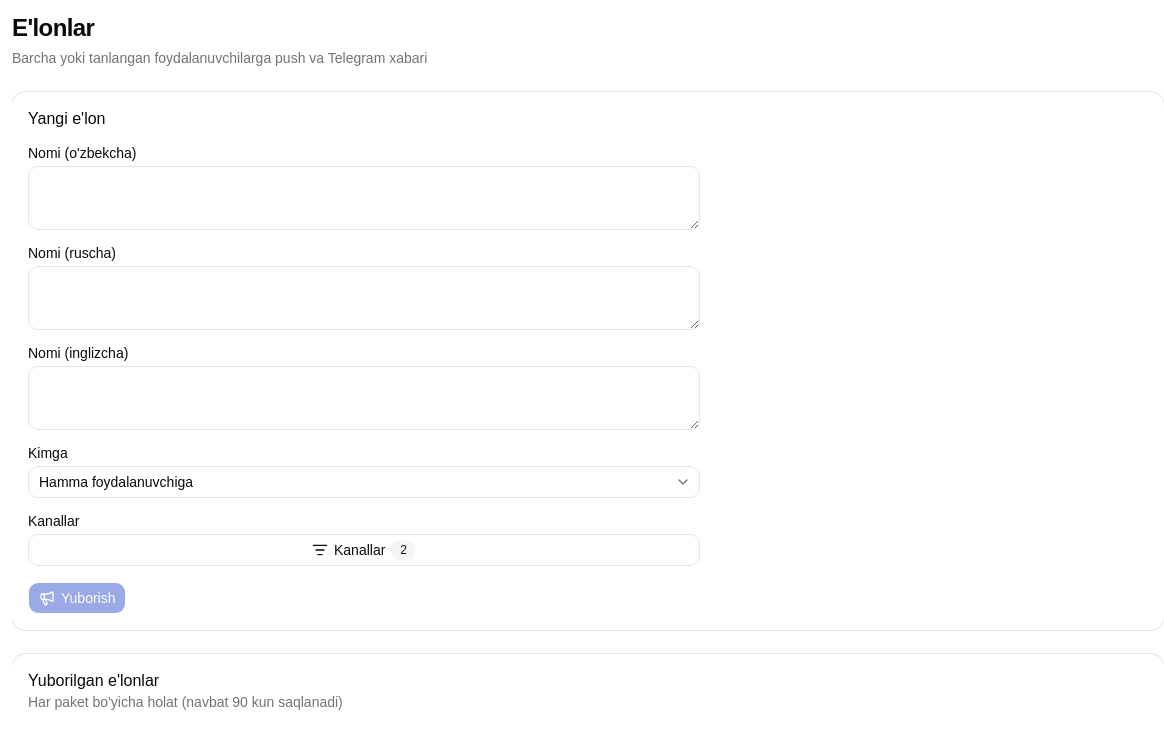
Test: PlatformAnnouncementsPage (E26-T03) › uch til to‘lmaguncha yuborilmaydi
Expected: the button "Yuborish" is disabled, [28,582,126,614]
In the text box labelled "Nomi (o'zbekcha)": {"x": 364, "y": 198} [28,166,700,230], type "Salom"
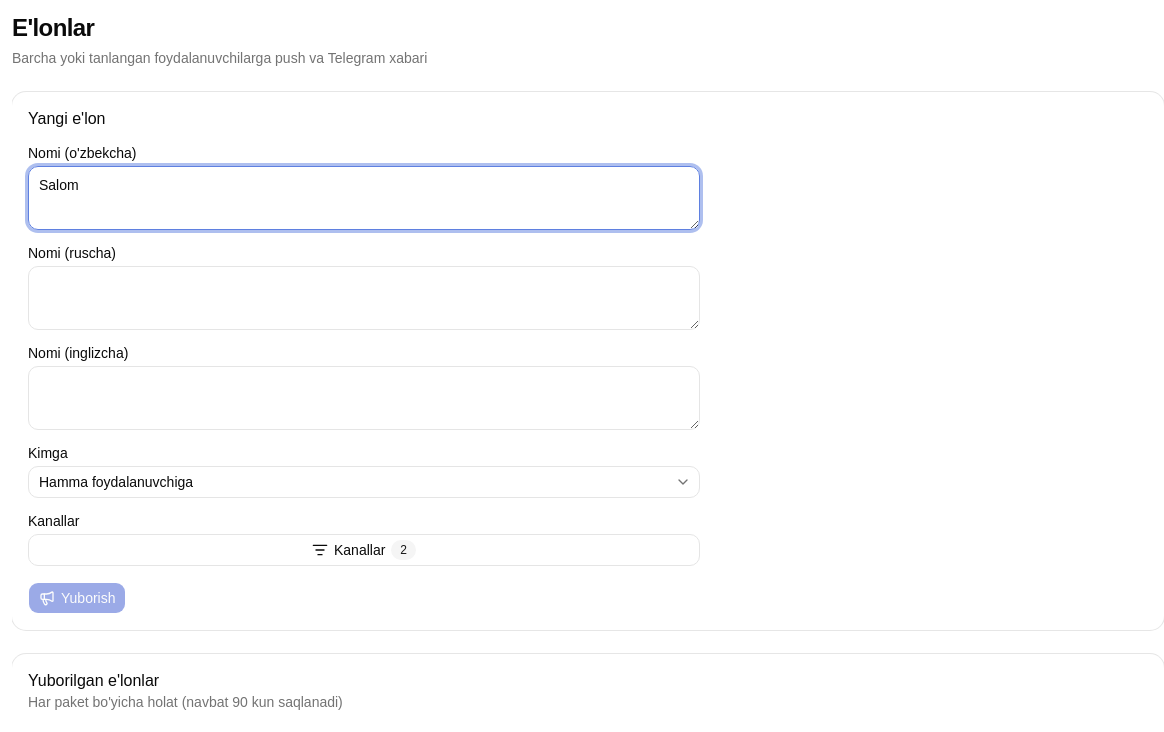
Expected: the button "Yuborish" is disabled, [28,582,126,614]
In the text box labelled "Nomi (ruscha)": {"x": 364, "y": 298} [28,266,700,330], type "Привет"
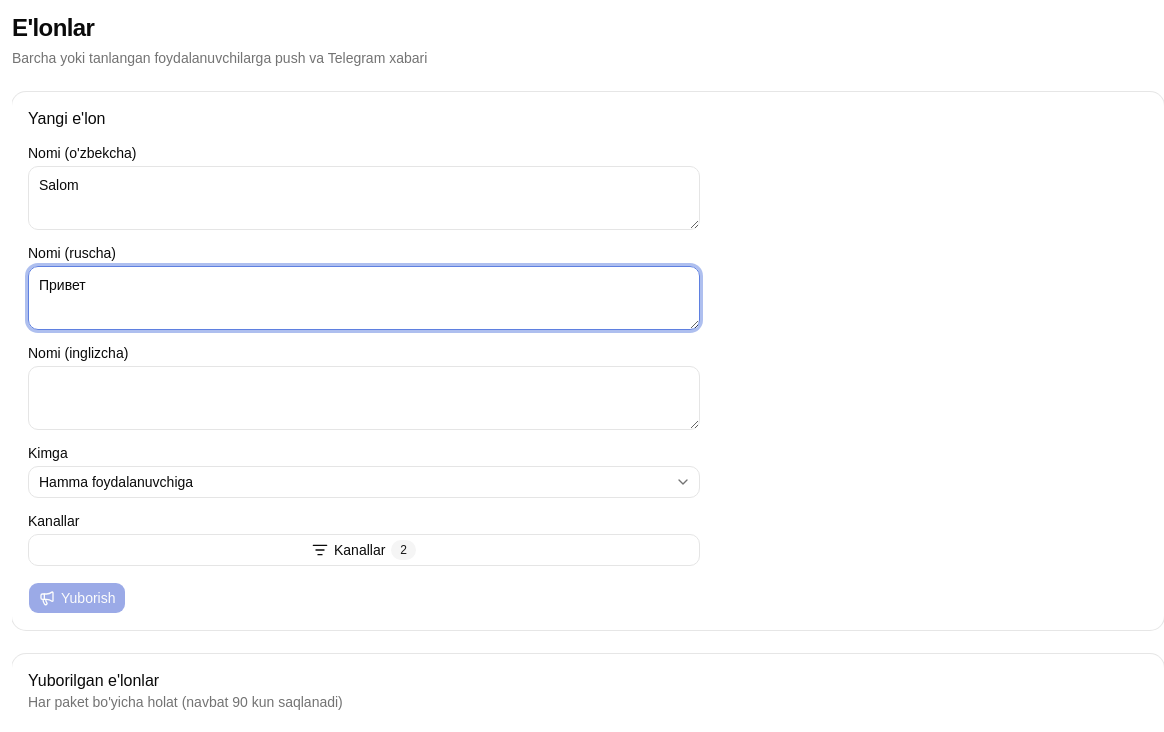
In the text box labelled "Nomi (inglizcha)": {"x": 364, "y": 398} [28,366,700,430], type "Hello"
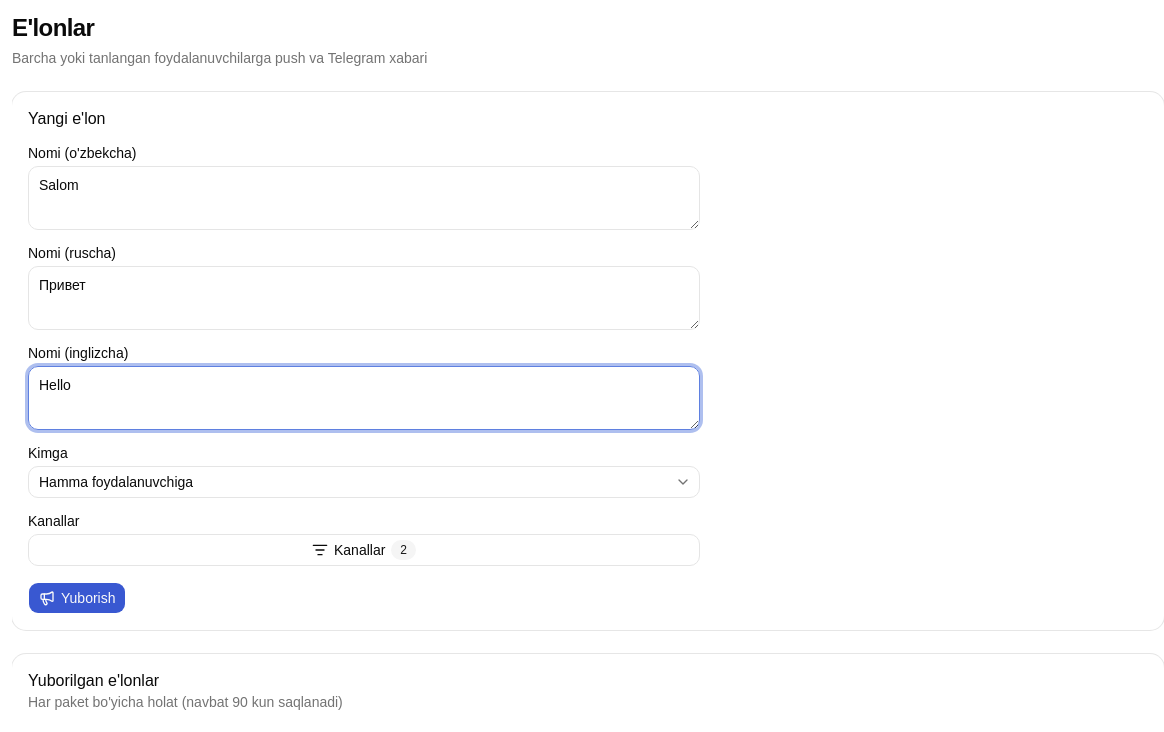
Expected: the button "Yuborish" is enabled, [28,582,126,614]
